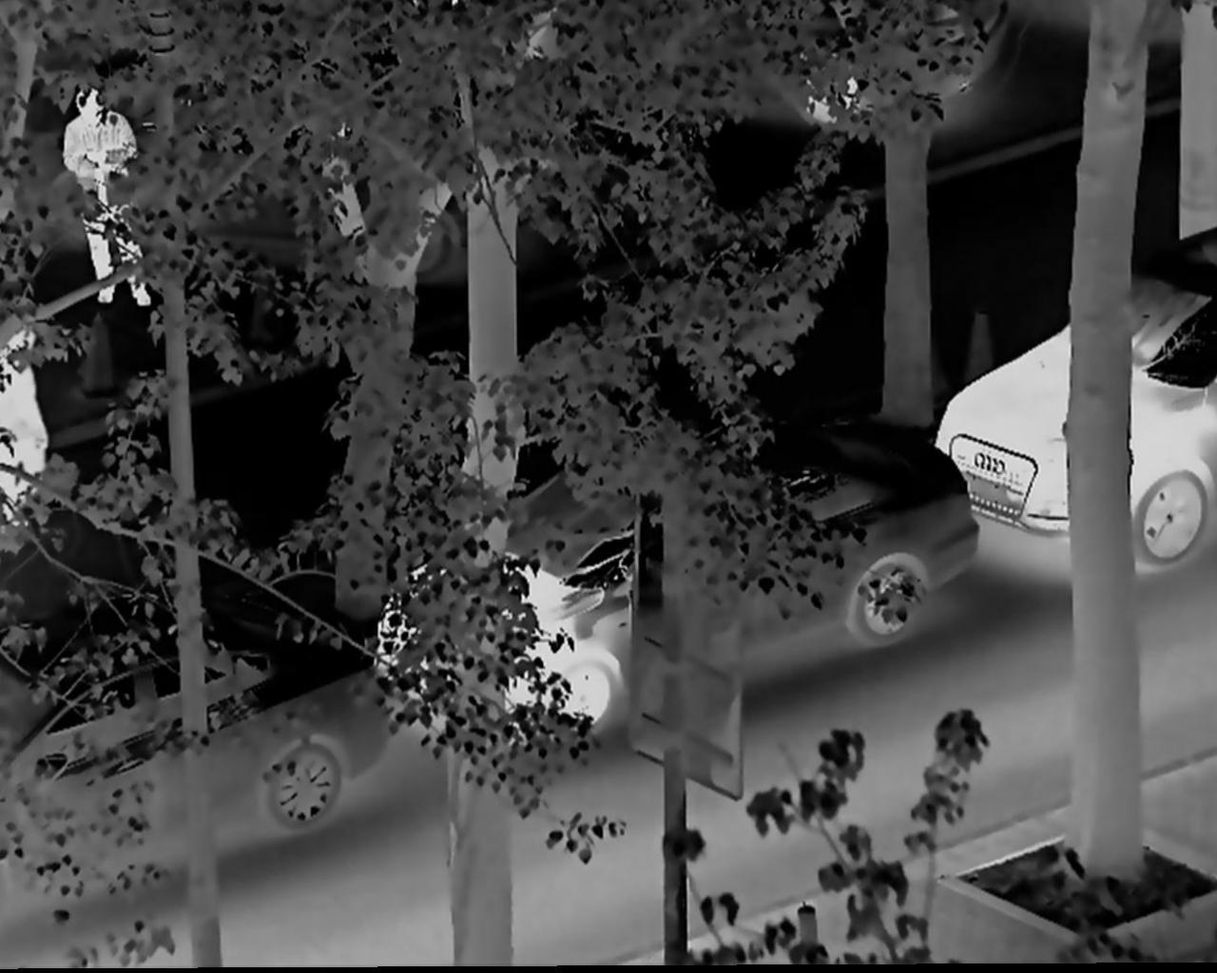person: (58, 86, 160, 314)
